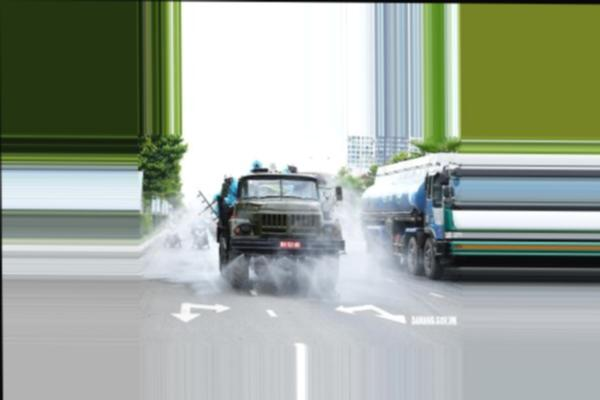License_Plate: (279, 240, 302, 249)
